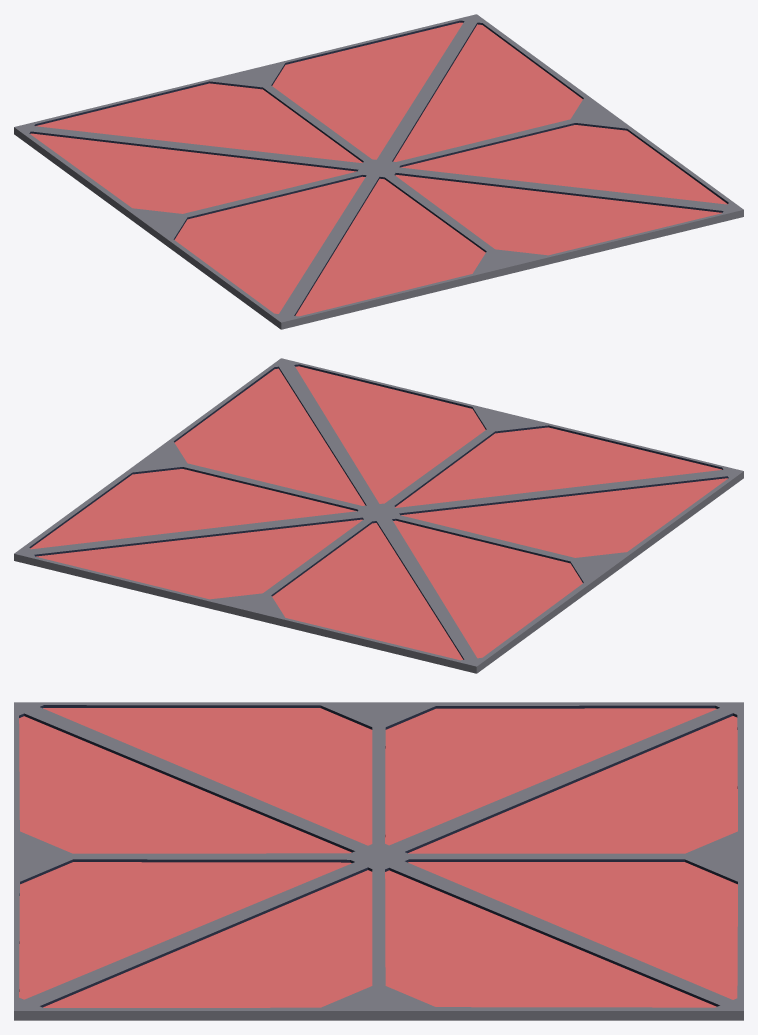
Rendered from Floor_Special.fbx.
3 renders of one model, top to bottom at view 1: azimuth 30°, elevation 25°; view 2: azimuth 150°, elevation 25°; view 3: azimuth 270°, elevation 25°, orthographic. The views are drawn at different scales.
Visible parts, largest first — view 1: Floor_Special; view 2: Floor_Special; view 3: Floor_Special.
Part boxes in pixels (bbox=[...]): Floor_Special: bbox=[14, 14, 743, 329]; Floor_Special: bbox=[14, 358, 743, 673]; Floor_Special: bbox=[14, 702, 743, 1020].
Bounding box in the file's own units: 700 × 10.37 × 700.
